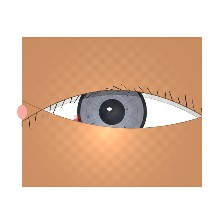hemorrhage_spot: (53, 91, 143, 163)
